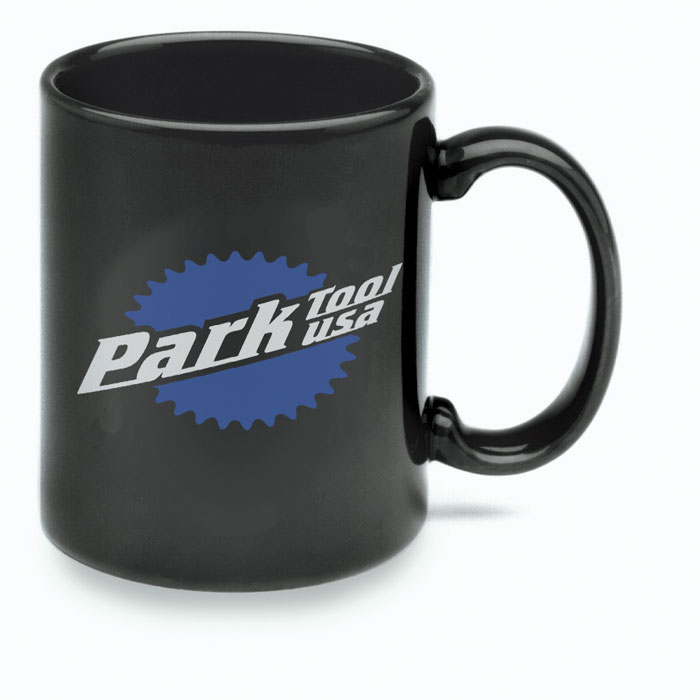cup: (37, 28, 621, 596)
